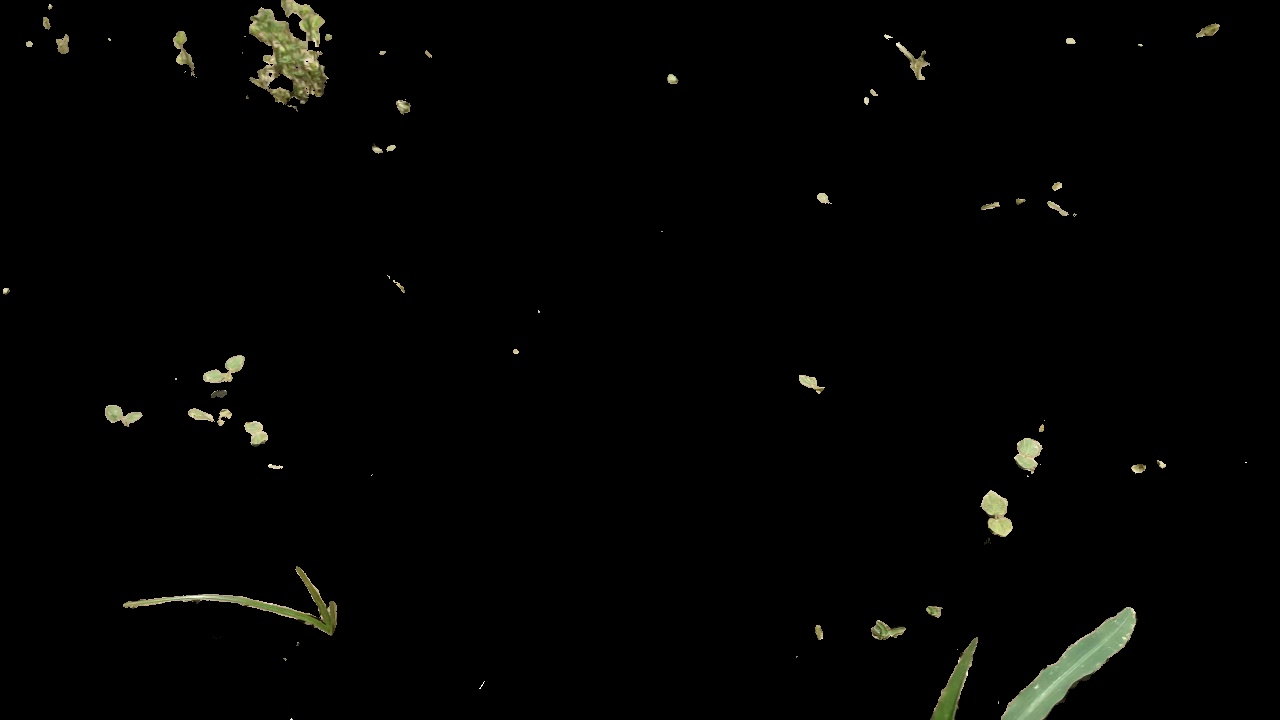crop: (929, 612, 1146, 720)
weed: (122, 551, 345, 634), (246, 1, 343, 109), (972, 482, 1015, 544), (891, 35, 938, 85), (95, 398, 151, 428), (203, 349, 251, 383), (1015, 425, 1042, 484), (171, 28, 201, 79), (866, 615, 912, 648), (794, 360, 823, 399), (180, 404, 235, 423), (242, 417, 269, 454), (363, 141, 405, 162), (812, 185, 839, 209)
